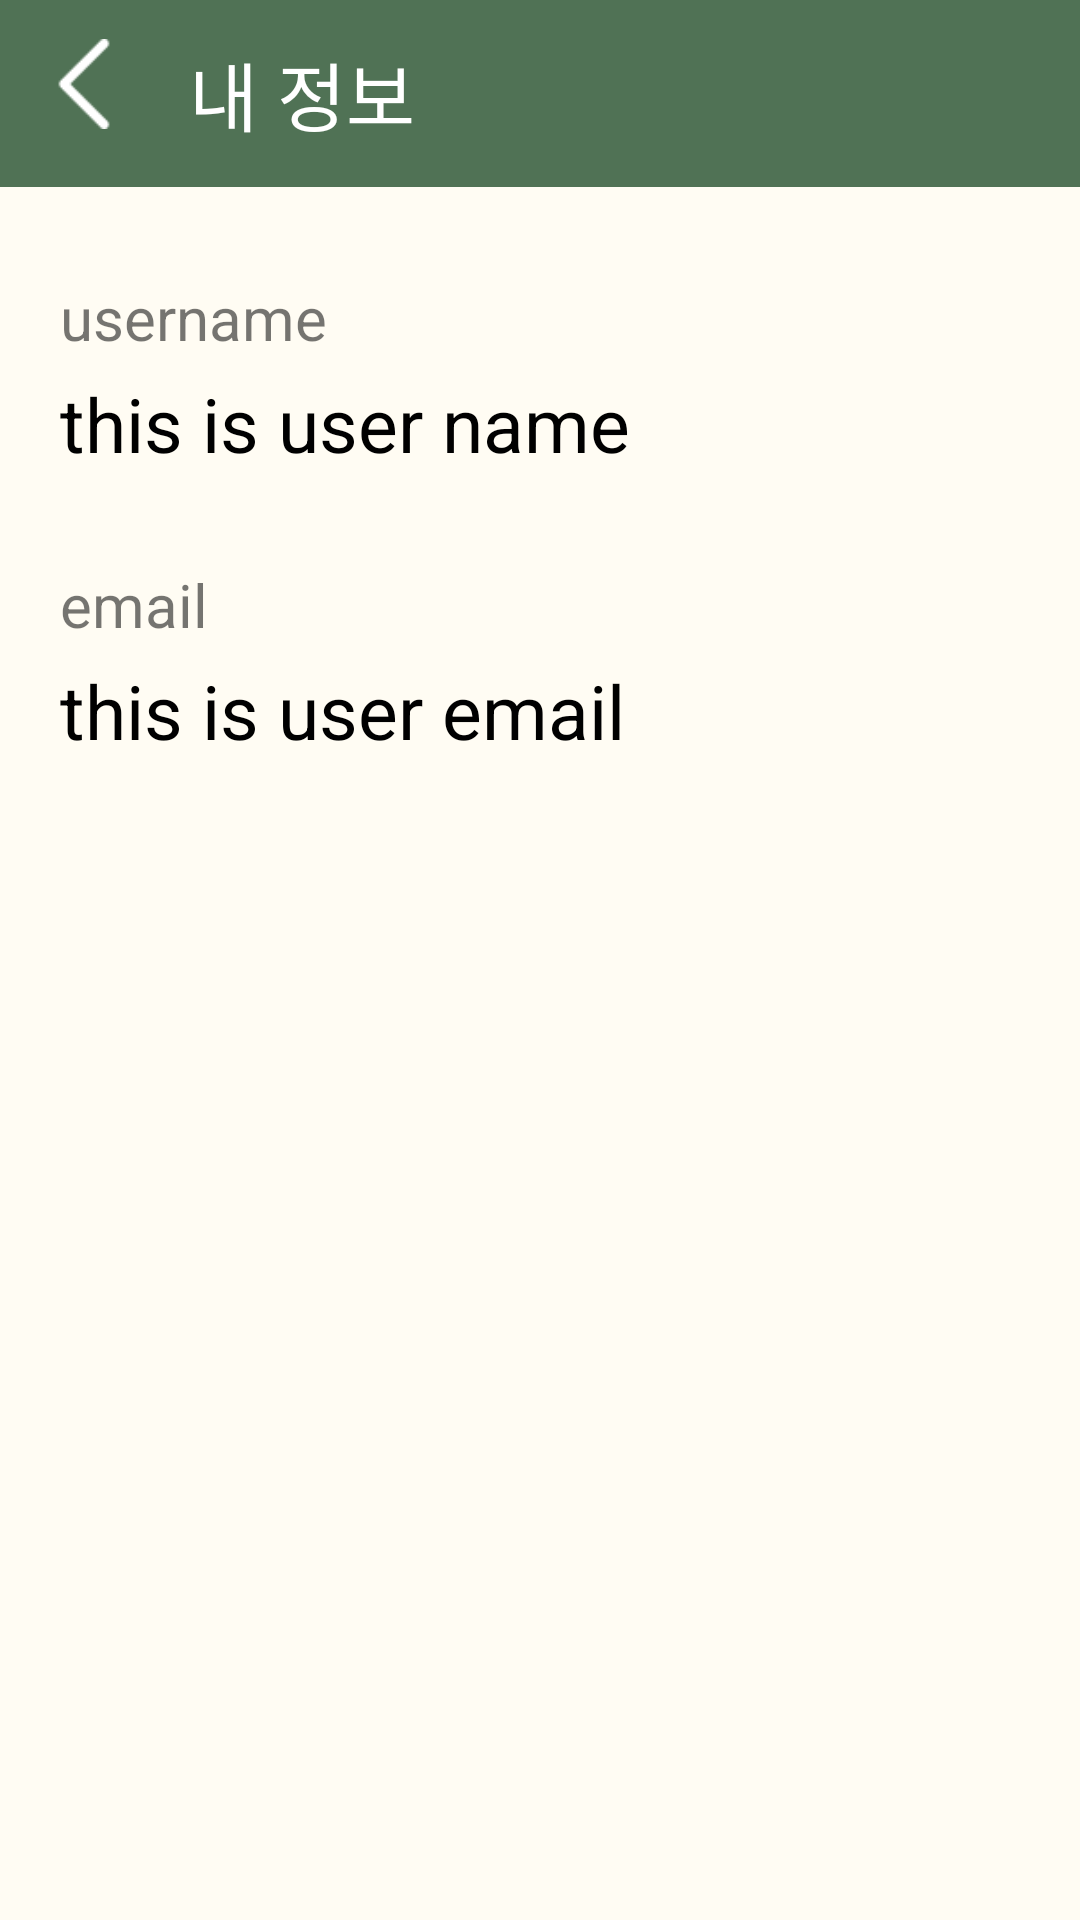

Icon click points for this 1080x1920 phone screenshot, format (x=x, y=y):
backbutton: (x=84, y=84)
